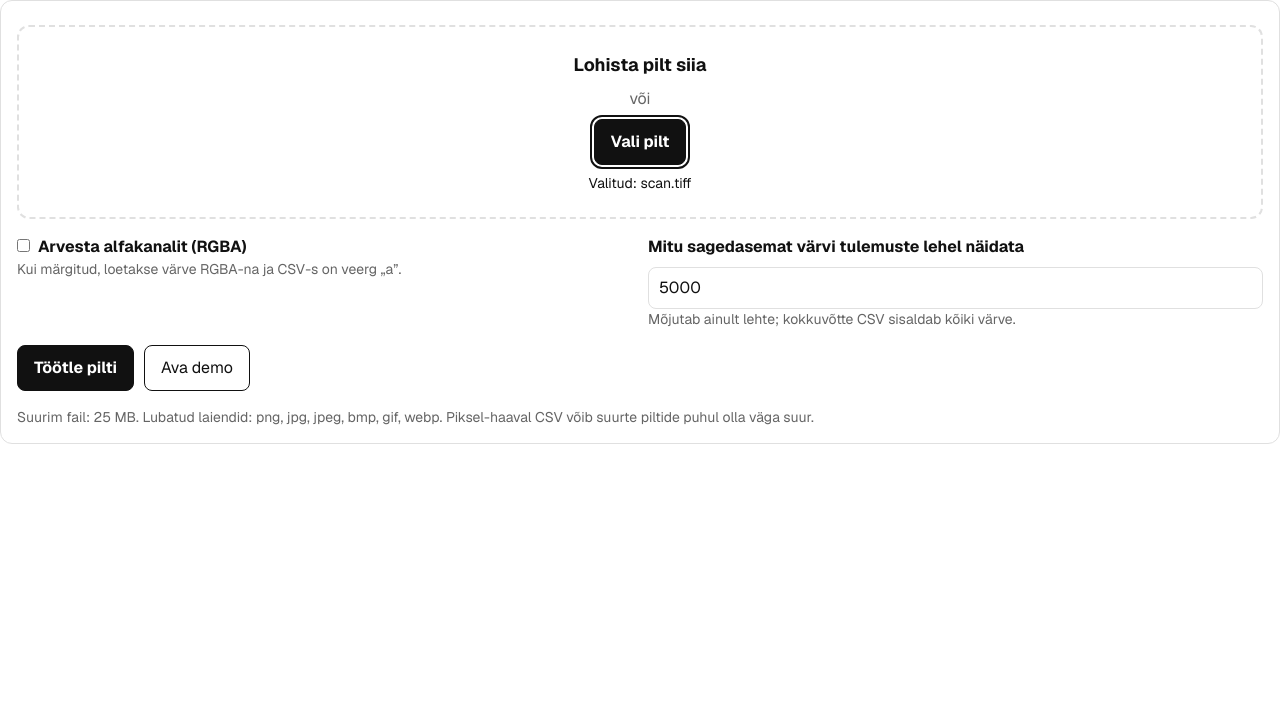
Test: UploadForm › rejects a file type the original did not allow for browsers
Earlier steps of the test are not shown.
Step 1. Click the button "Töötle pilti" → (76, 368), box [17, 345, 134, 391]
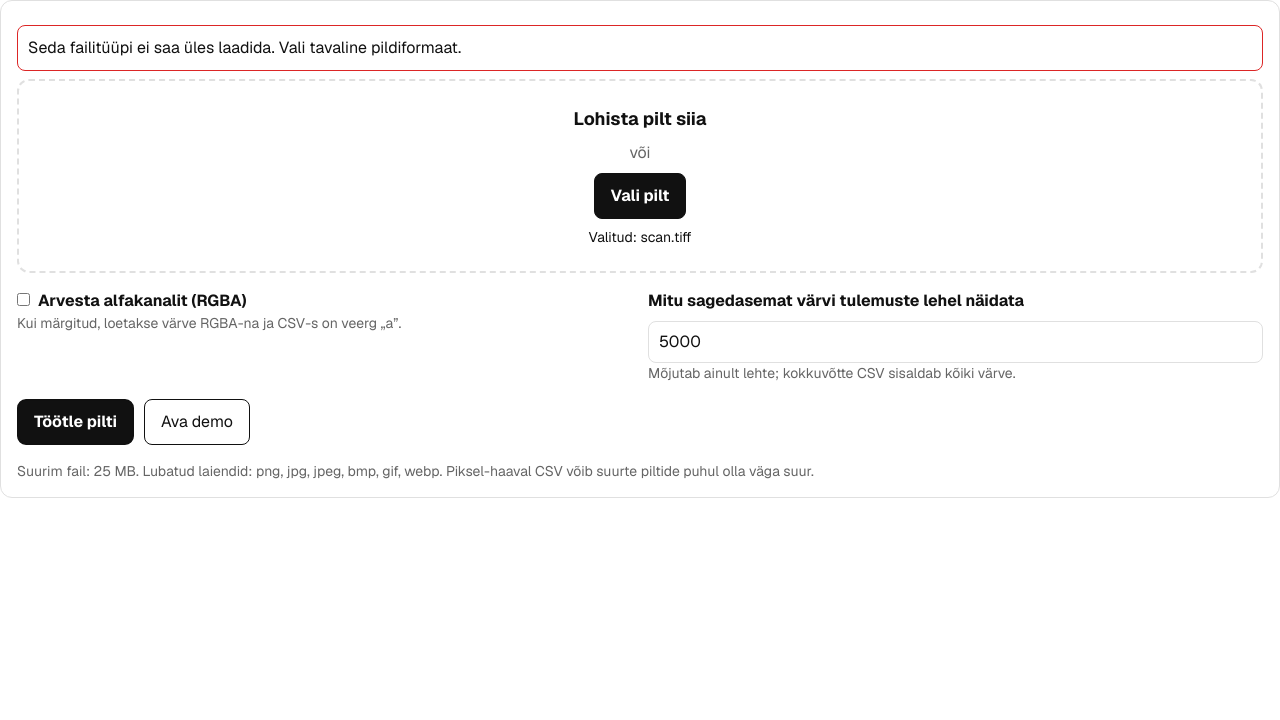
Result: the message shows "Seda failitüüpi ei saa üles laadida" at [28, 37, 461, 58]
